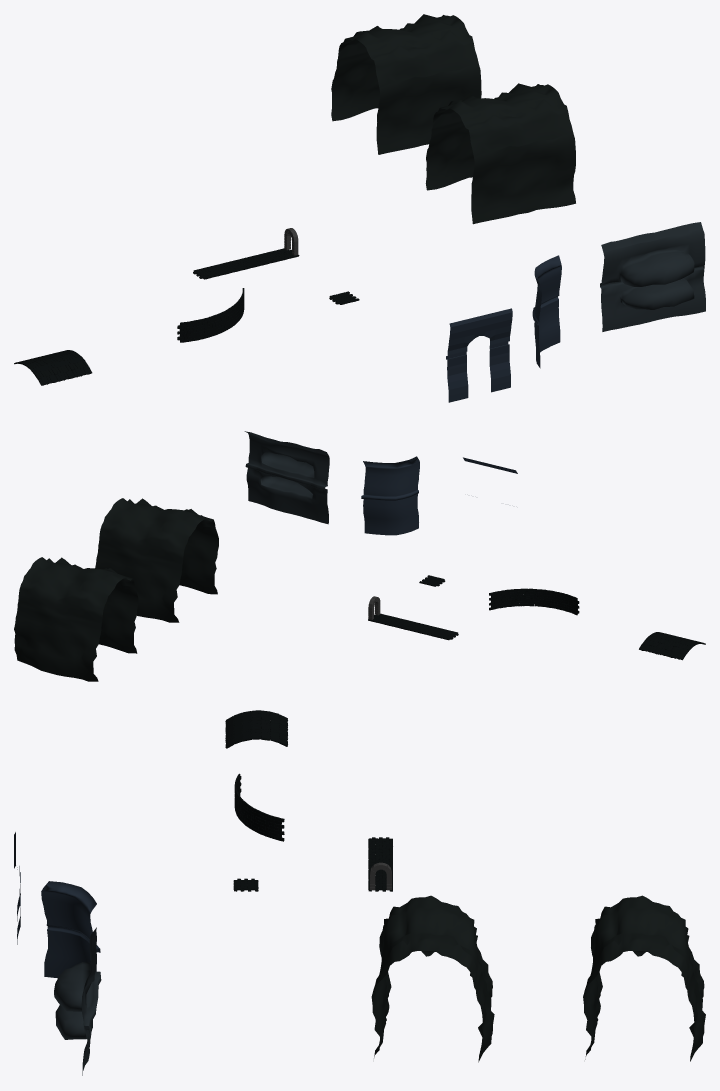
Rendered from stairs and stuff.fbx.
The picture shows the model from 3 angles, top to bottom: view 1: azimuth 30°, elevation 25°; view 2: azimuth 150°, elevation 25°; view 3: azimuth 270°, elevation 25°; orthographic projection. The views are drawn at different scales.
Visible parts, largest first — view 1: Walls, Walls.001, Shelved Wall, Catacomb Wall Doorpath, Catacomb Wall Corner, Walkpath Piece.002, Curved Brick Wall, Walkpath Full; view 2: Walls.001, Walls, Shelved Wall, Catacomb Wall Corner, Curved Brick Wall, Walkpath Piece.002, Walkpath Full; view 3: Walls, Walls.001, Catacomb Wall Corner, Shelved Wall, Walkpath Piece.002, Curved Brick Wall, Walkpath Full.
Part boxes in pixels (x1=…): Walls: x1=425, y1=83, x2=575, y2=224; Walls.001: x1=331, y1=14, x2=481, y2=154; Shelved Wall: x1=600, y1=222, x2=705, y2=331; Catacomb Wall Doorpath: x1=446, y1=308, x2=512, y2=402; Catacomb Wall Corner: x1=532, y1=255, x2=561, y2=368; Walkpath Piece.002: x1=14, y1=350, x2=92, y2=385; Curved Brick Wall: x1=177, y1=288, x2=244, y2=342; Walkpath Full: x1=193, y1=248, x2=299, y2=279; Walls.001: x1=14, y1=557, x2=138, y2=681; Walls: x1=95, y1=498, x2=218, y2=622; Shelved Wall: x1=244, y1=431, x2=329, y2=524; Catacomb Wall Corner: x1=361, y1=456, x2=419, y2=535; Curved Brick Wall: x1=489, y1=588, x2=579, y2=615; Walkpath Piece.002: x1=639, y1=632, x2=705, y2=660; Walkpath Full: x1=368, y1=613, x2=458, y2=640; Walls: x1=371, y1=895, x2=494, y2=1062; Walls.001: x1=583, y1=895, x2=705, y2=1061; Catacomb Wall Corner: x1=41, y1=881, x2=100, y2=978; Shelved Wall: x1=54, y1=927, x2=101, y2=1075; Walkpath Piece.002: x1=225, y1=710, x2=287, y2=748; Curved Brick Wall: x1=234, y1=773, x2=284, y2=841; Walkpath Full: x1=368, y1=837, x2=392, y2=891.
Bounding box in the file's own units: 6995 × 1314 × 6230.
